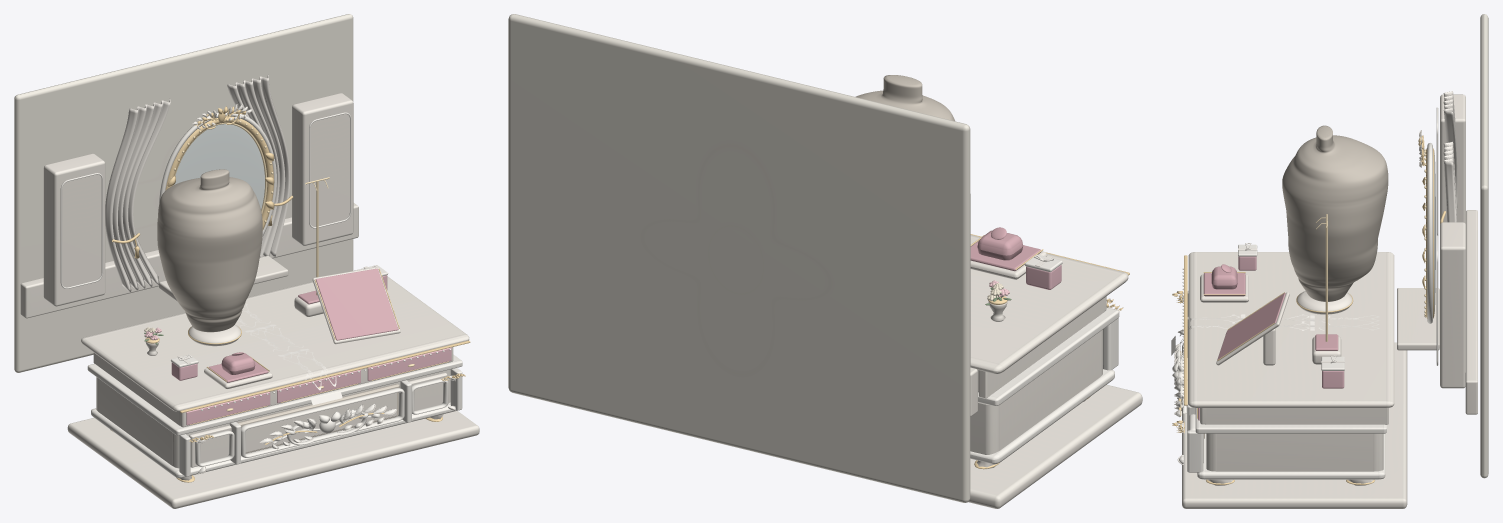
File: main-display-scene.glb
3 renders of one model, left to right at view 1: azimuth 30°, elevation 25°; view 2: azimuth 150°, elevation 25°; view 3: azimuth 270°, elevation 25°, orthographic. The views are drawn at different scales.
Visible parts, largest first — view 1: Fixed_01 | warm ivory lacquer, Fixed_Background_06 | warm oyster wall, Fixed_Background_01 | warm ivory lacquer, Fixed_Display | warm ivory velvet, Fixed_02 | ivory carved edges, Fixed_Background_08 | pale warm drapery, Fixed_Display | pale blush suede, Fixed_07 | dusty blush silk, Fixed_Background_16 | softened silver mirror, Fixed_Background_02 | ivory carved edges, Fixed_04 | satin champagne brass, Fixed_Background_04 | satin champagne brass (+3 smaller); view 2: Fixed_Background_06 | warm oyster wall, Fixed_01 | warm ivory lacquer, Fixed_02 | ivory carved edges, Fixed_Display | warm ivory velvet, Fixed_Display | pale blush suede; view 3: Fixed_01 | warm ivory lacquer, Fixed_Display | warm ivory velvet, Fixed_Background_01 | warm ivory lacquer, Fixed_02 | ivory carved edges, Fixed_Background_06 | warm oyster wall, Fixed_Display | pale blush suede, Fixed_Background_02 | ivory carved edges, Fixed_Background_08 | pale warm drapery, Fixed_04 | satin champagne brass, Fixed_Background_04 | satin champagne brass, Fixed_09 | floral ecru lace cutout, Fixed_07 | dusty blush silk (+1 smaller).
Part boxes in pixels (x1,y1,x2,y2): Fixed_01 | warm ivory lacquer: (67, 267, 479, 508); Fixed_Background_06 | warm oyster wall: (14, 14, 353, 372); Fixed_Background_01 | warm ivory lacquer: (20, 93, 358, 318); Fixed_Display | warm ivory velvet: (157, 169, 262, 332); Fixed_02 | ivory carved edges: (87, 265, 462, 478); Fixed_Background_08 | pale warm drapery: (105, 74, 289, 291); Fixed_Display | pale blush suede: (208, 268, 398, 382); Fixed_07 | dusty blush silk: (171, 275, 451, 425); Fixed_Background_16 | softened silver mirror: (173, 124, 264, 209); Fixed_Background_02 | ivory carved edges: (60, 104, 351, 288); Fixed_04 | satin champagne brass: (110, 268, 470, 482); Fixed_Background_04 | satin champagne brass: (112, 106, 293, 258); Fixed_Background_06 | warm oyster wall: (508, 14, 970, 502); Fixed_01 | warm ivory lacquer: (968, 235, 1142, 508); Fixed_02 | ivory carved edges: (970, 254, 1119, 463); Fixed_Display | warm ivory velvet: (855, 75, 954, 121); Fixed_Display | pale blush suede: (970, 227, 1040, 271); Fixed_01 | warm ivory lacquer: (1174, 252, 1407, 508); Fixed_Display | warm ivory velvet: (1282, 125, 1388, 301); Fixed_Background_01 | warm ivory lacquer: (1397, 94, 1477, 414); Fixed_02 | ivory carved edges: (1172, 244, 1386, 479); Fixed_Background_06 | warm oyster wall: (1480, 14, 1488, 478); Fixed_Display | pale blush suede: (1203, 264, 1338, 359); Fixed_Background_02 | ivory carved edges: (1419, 107, 1438, 365); Fixed_Background_08 | pale warm drapery: (1443, 91, 1457, 222); Fixed_04 | satin champagne brass: (1172, 255, 1374, 484); Fixed_Background_04 | satin champagne brass: (1418, 135, 1446, 318); Fixed_09 | floral ecru lace cutout: (1171, 314, 1379, 355); Fixed_07 | dusty blush silk: (1198, 256, 1344, 420).
Size of the model in its own units: 0.395 by 0.3505 by 0.304.
15 materials, 5 textured.
